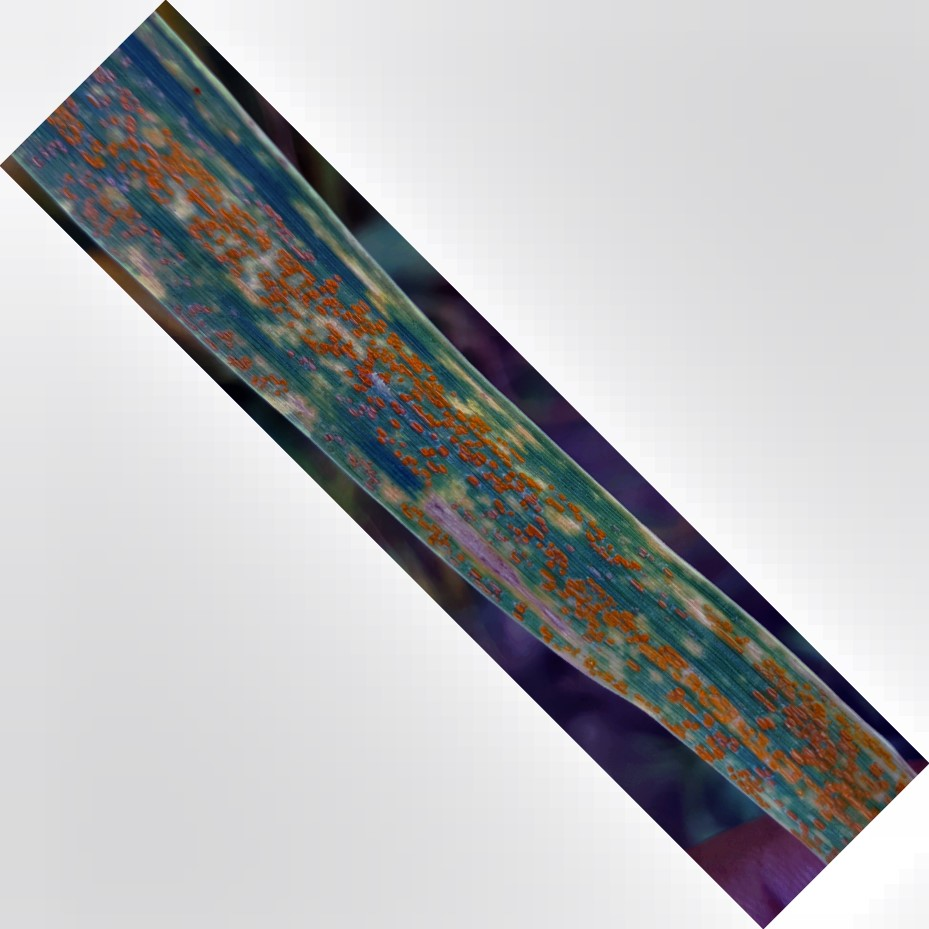Leaf Rust: (66, 76, 822, 807)
